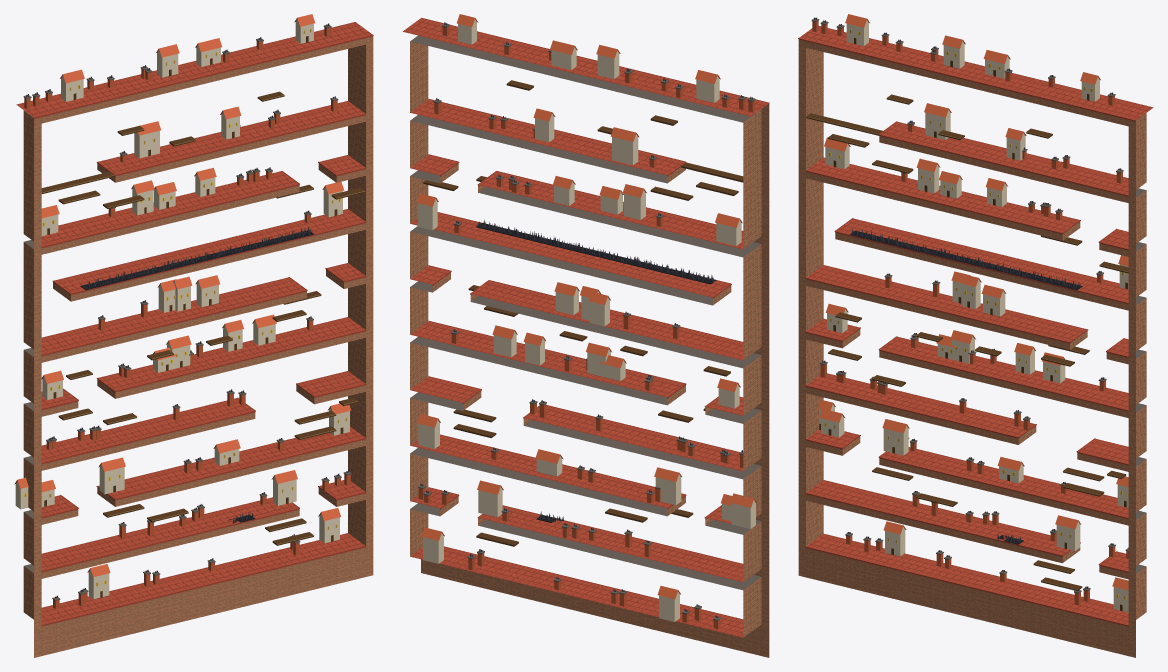
Rendered from level-3.glb.
3 renders of one model, left to right at view 1: azimuth 30°, elevation 25°; view 2: azimuth 150°, elevation 25°; view 3: azimuth 330°, elevation 25°, orthographic. The views are drawn at different scales.
Visible parts, largest first — view 1: Sector_0_4, Sector_1_2, Sector_0_3, Sector_0_1, Sector_1_0, Sector_1_4, Sector_2_4, Sector_1_1, Sector_2_0, Sector_0_2, Sector_0_0, Sector_1_3 (+11 smaller); view 2: Sector_0_1, Sector_0_3, Sector_0_2, Sector_0_4, Sector_1_2, Sector_1_0, Sector_0_0, Sector_1_1, Sector_2_0, Sector_1_3, Sector_2_2, Sector_1_4 (+11 smaller); view 3: Sector_0_4, Sector_0_3, Sector_0_1, Sector_1_2, Sector_1_0, Sector_1_4, Sector_0_2, Sector_1_1, Sector_2_4, Sector_0_0, Sector_2_0, Sector_1_3 (+11 smaller).
Boxes of the visible parts, x1,y1,x2,y2 form: Sector_0_4: (23, 505, 137, 642); Sector_1_2: (120, 275, 240, 393); Sector_0_3: (14, 408, 137, 534); Sector_0_1: (23, 190, 137, 318); Sector_1_0: (120, 38, 240, 177); Sector_1_4: (118, 504, 240, 617); Sector_2_4: (223, 470, 343, 591); Sector_1_1: (120, 168, 240, 285); Sector_2_0: (220, 14, 344, 151); Sector_0_2: (23, 304, 137, 426); Sector_0_0: (16, 69, 137, 210); Sector_1_3: (120, 401, 240, 501); Sector_0_1: (645, 182, 769, 320); Sector_0_3: (645, 408, 769, 542); Sector_0_2: (644, 307, 769, 431); Sector_0_4: (645, 509, 769, 641); Sector_1_2: (539, 282, 663, 399); Sector_1_0: (539, 40, 663, 177); Sector_0_0: (645, 70, 769, 209); Sector_1_1: (539, 176, 663, 288); Sector_2_0: (433, 14, 556, 151); Sector_1_3: (535, 407, 663, 510); Sector_2_2: (433, 280, 557, 373); Sector_1_4: (539, 508, 663, 613); Sector_0_4: (798, 449, 918, 585); Sector_0_3: (798, 341, 918, 469); Sector_0_1: (798, 121, 918, 254); Sector_1_2: (901, 271, 1021, 387); Sector_1_0: (901, 35, 1021, 172); Sector_1_4: (901, 474, 1021, 610); Sector_0_2: (798, 227, 918, 362); Sector_1_1: (901, 158, 1021, 280); Sector_2_4: (1003, 515, 1123, 635); Sector_0_0: (798, 14, 918, 147); Sector_2_0: (1003, 72, 1123, 197); Sector_1_3: (901, 395, 1024, 494).
Size of the model in its own units: 46.15 by 73.59 by 4.7.
Materials: 1 (1 with a texture image).
